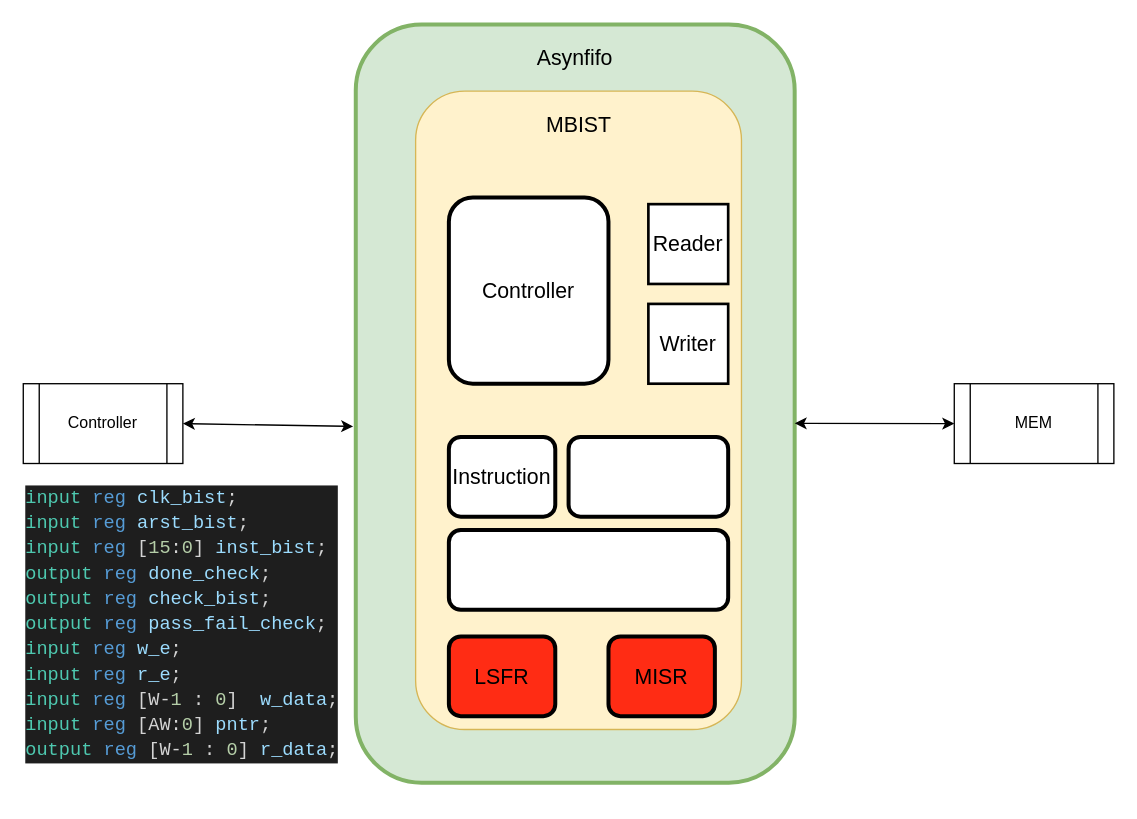
The diagram is 1137 pixels wide and 819 high, and some of its shapes have lost their labels. The box of each missing label's shape, as (x1, y1, x2, y2) in pixels:
BIST DATA: (446, 527, 730, 611)
Comparator: (566, 434, 730, 518)
